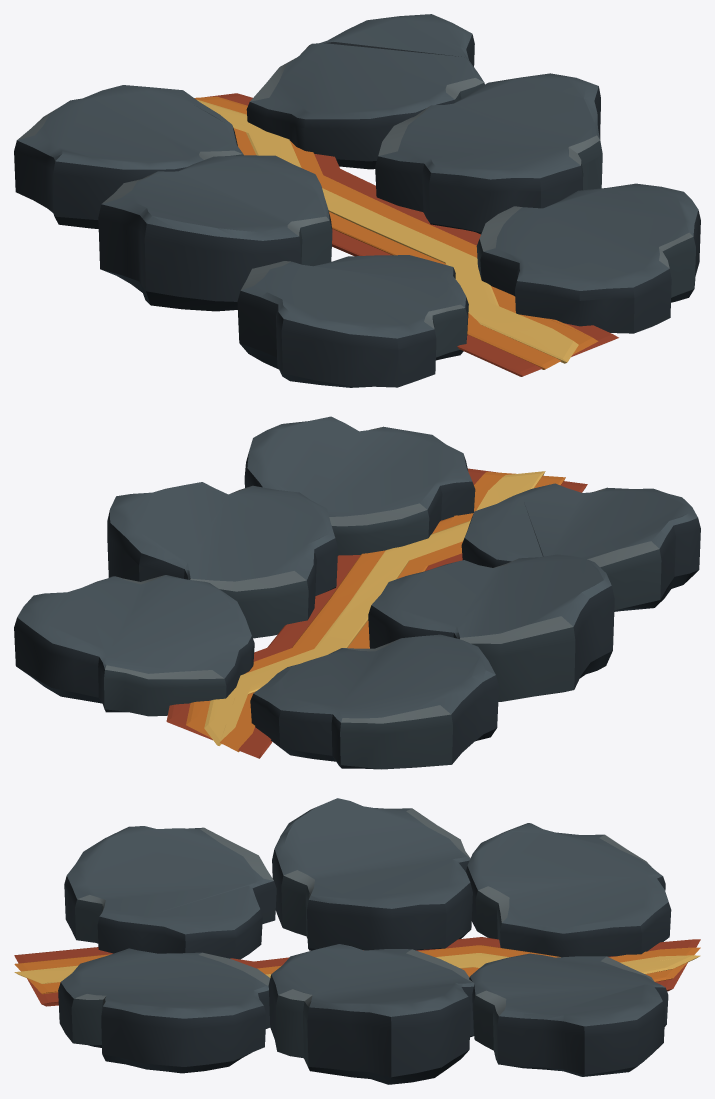
The model's file is fw_lava_fissure.hi.glb.
3 renders of one model, top to bottom at view 1: azimuth 30°, elevation 25°; view 2: azimuth 150°, elevation 25°; view 3: azimuth 270°, elevation 25°, orthographic. The views are drawn at different scales.
Parts seen in each view (by area): view 1: body; view 2: body; view 3: body.
Boxes of the visible parts, box(x1,y1,x2,y2) form: body: box(14, 14, 700, 387); body: box(14, 416, 700, 769); body: box(14, 798, 700, 1084).
Bounding box in the file's own units: 1.98 × 0.3423 × 2.63.
